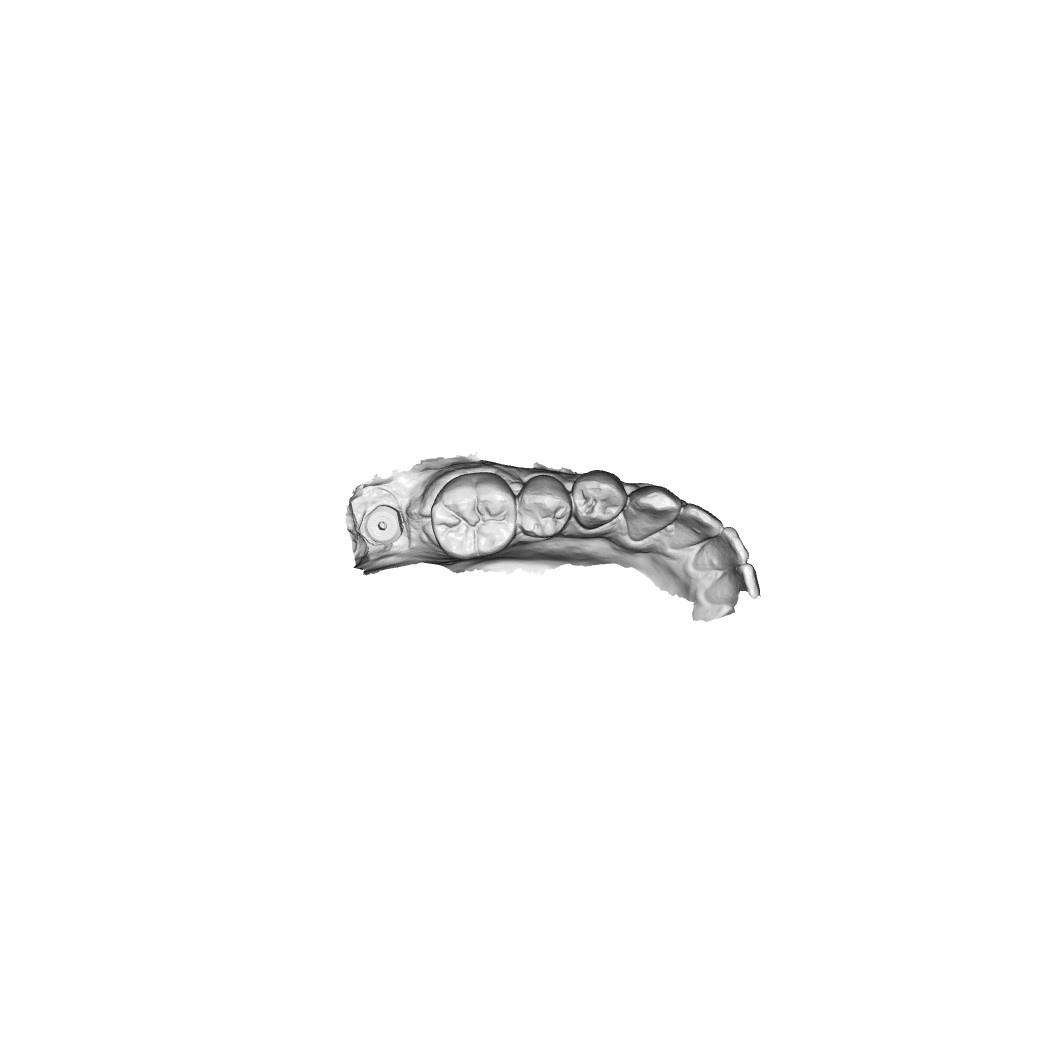canine: (629, 484, 679, 551)
implant: (360, 505, 409, 542)
incisor: (697, 531, 749, 576), (672, 505, 713, 549)
molar: (430, 476, 518, 564)
premolar: (571, 472, 625, 533), (518, 478, 570, 533)
